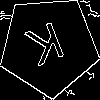K: (24, 21, 70, 76)
